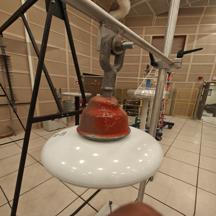insulator: (36, 91, 174, 195)
